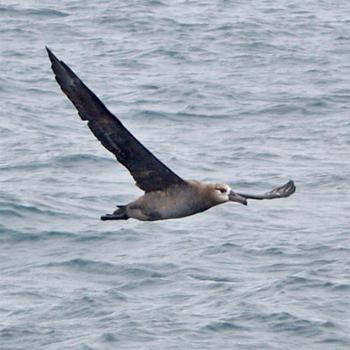bird: (43, 43, 296, 220)
